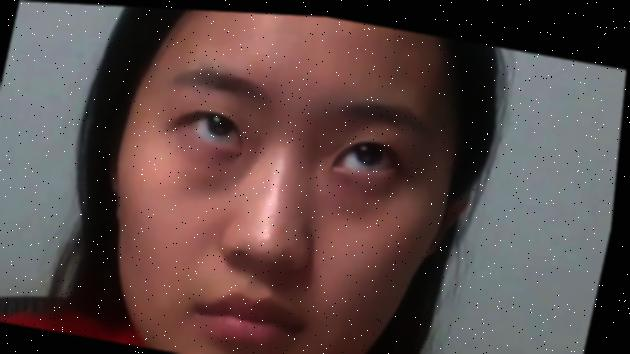eye: (355, 131, 390, 164), (207, 105, 241, 138)
iris: (338, 133, 403, 174), (188, 108, 248, 144)
